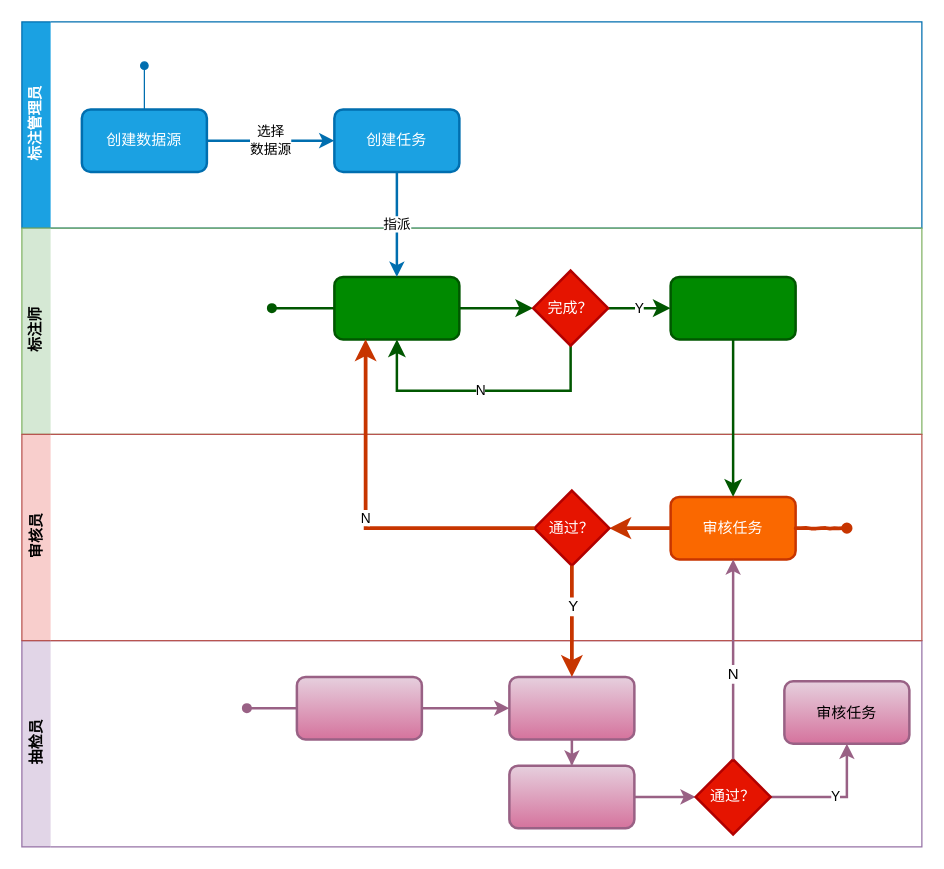
This 944x869 diagram has some shape labels left out. Each missing label, with the centre of its shape:
"抽检任务" belongs at point (571, 796).
"抽检池" belongs at point (571, 707).
"指派抽检任务" belongs at point (358, 707).
"提交审核" belongs at point (732, 307).
"标注任务" belongs at point (396, 307).
